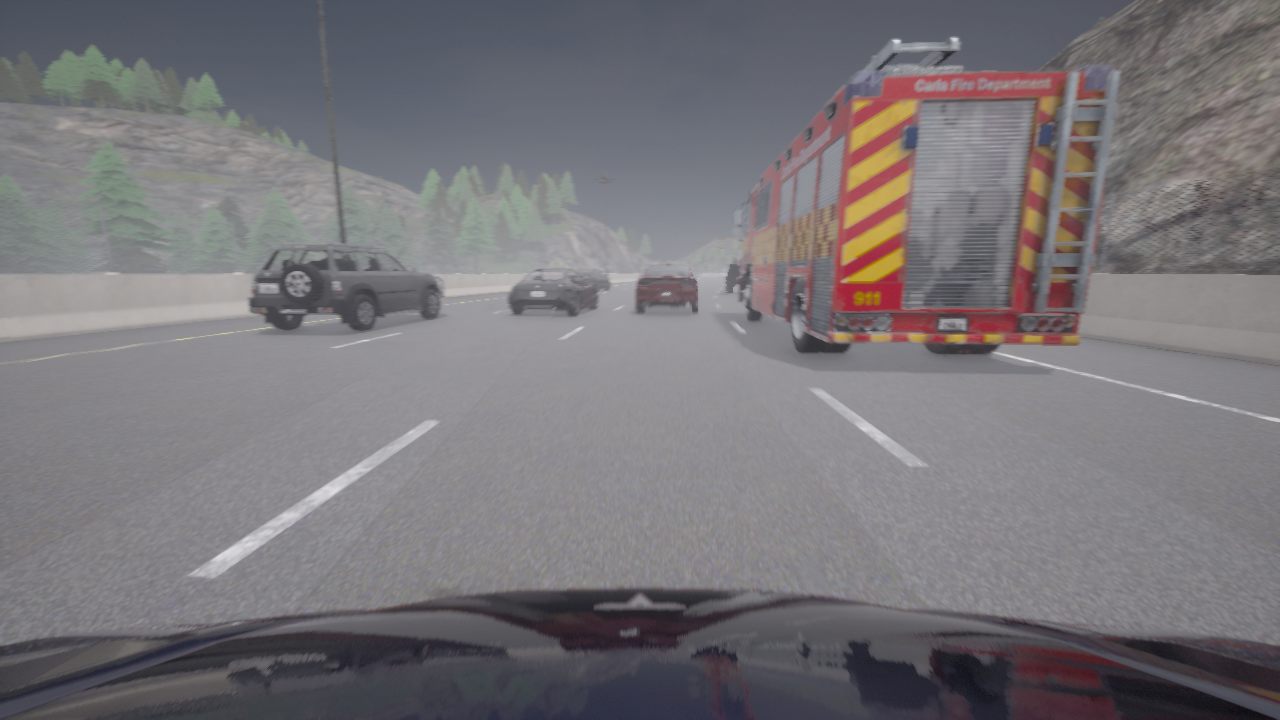cyclist: (0, 588, 1279, 719), (732, 37, 1120, 355), (249, 243, 444, 331), (508, 268, 597, 315), (636, 263, 701, 313), (577, 269, 609, 291), (726, 258, 741, 294)
